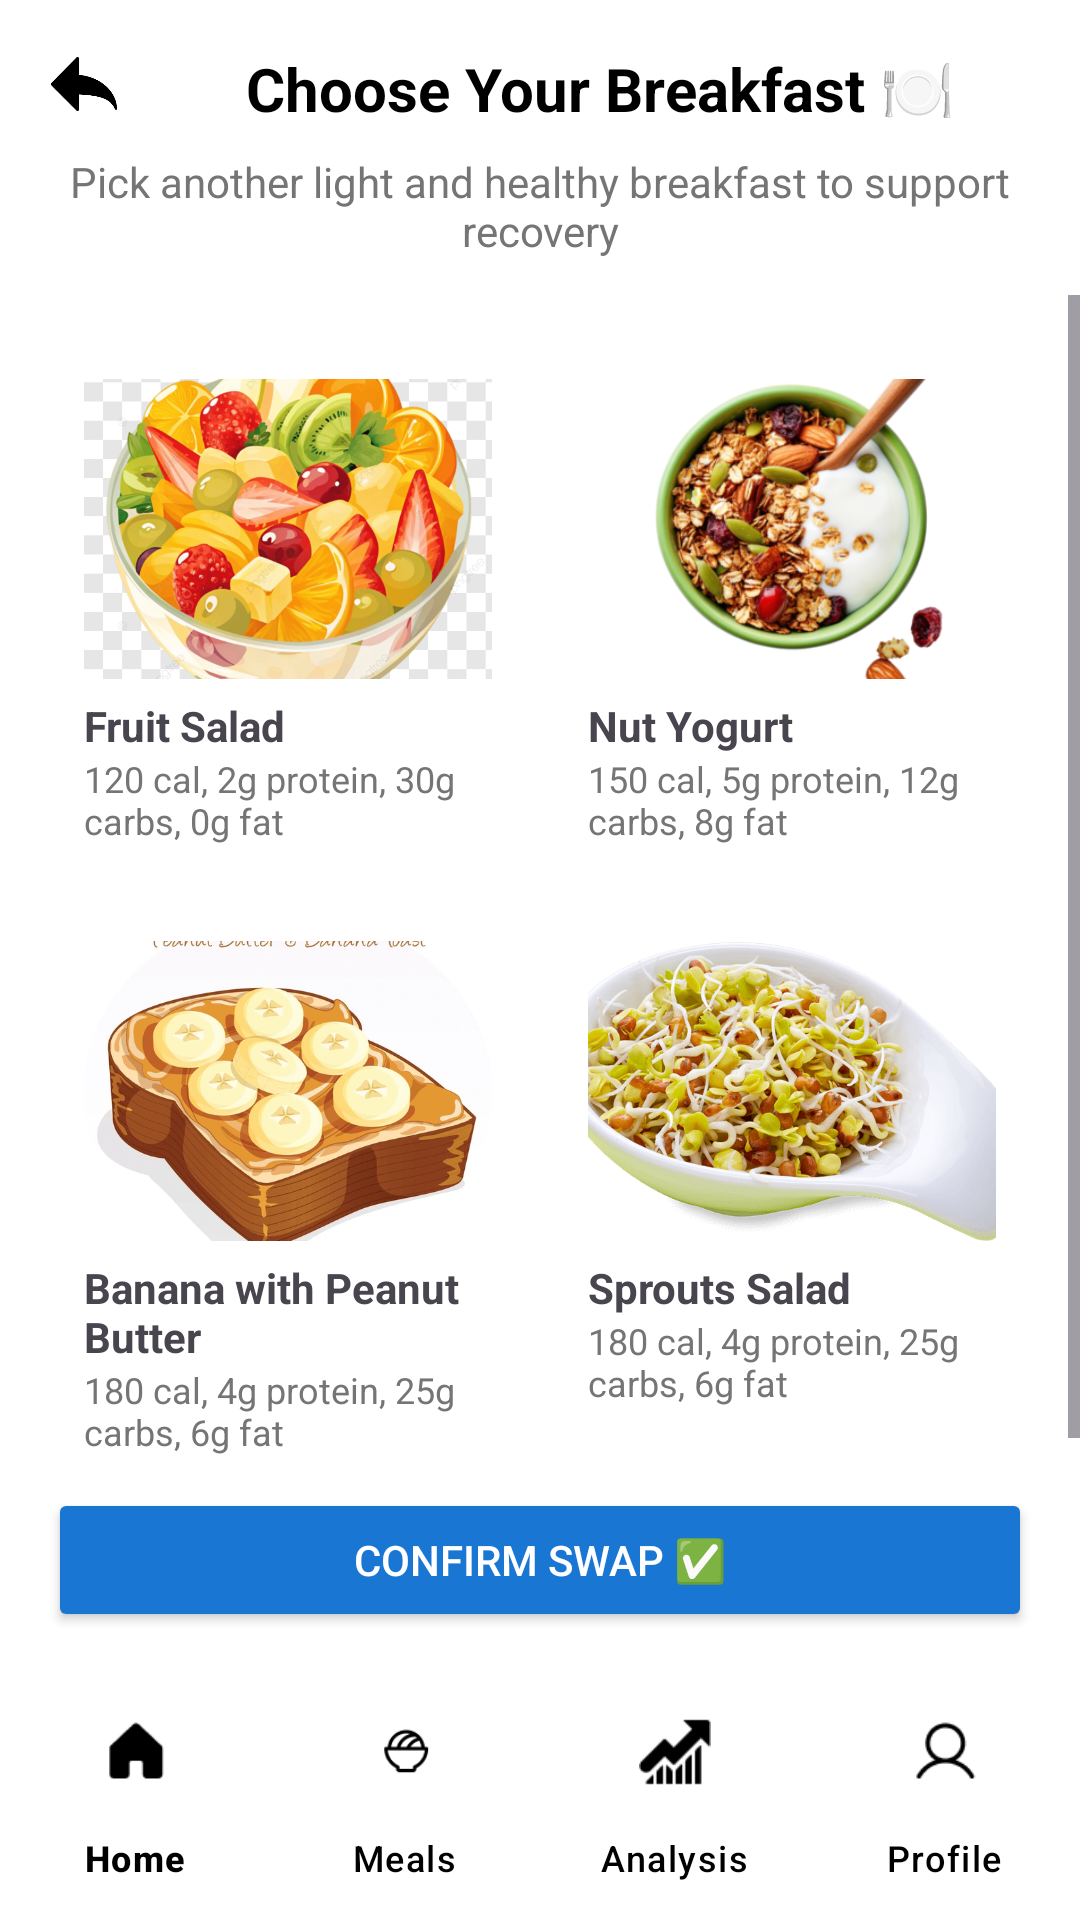

Locate icon controls on the screen. Image size 1080×1920, boxes as (x1, y1, x2, y2).
backarrow: (51, 57, 117, 111)
